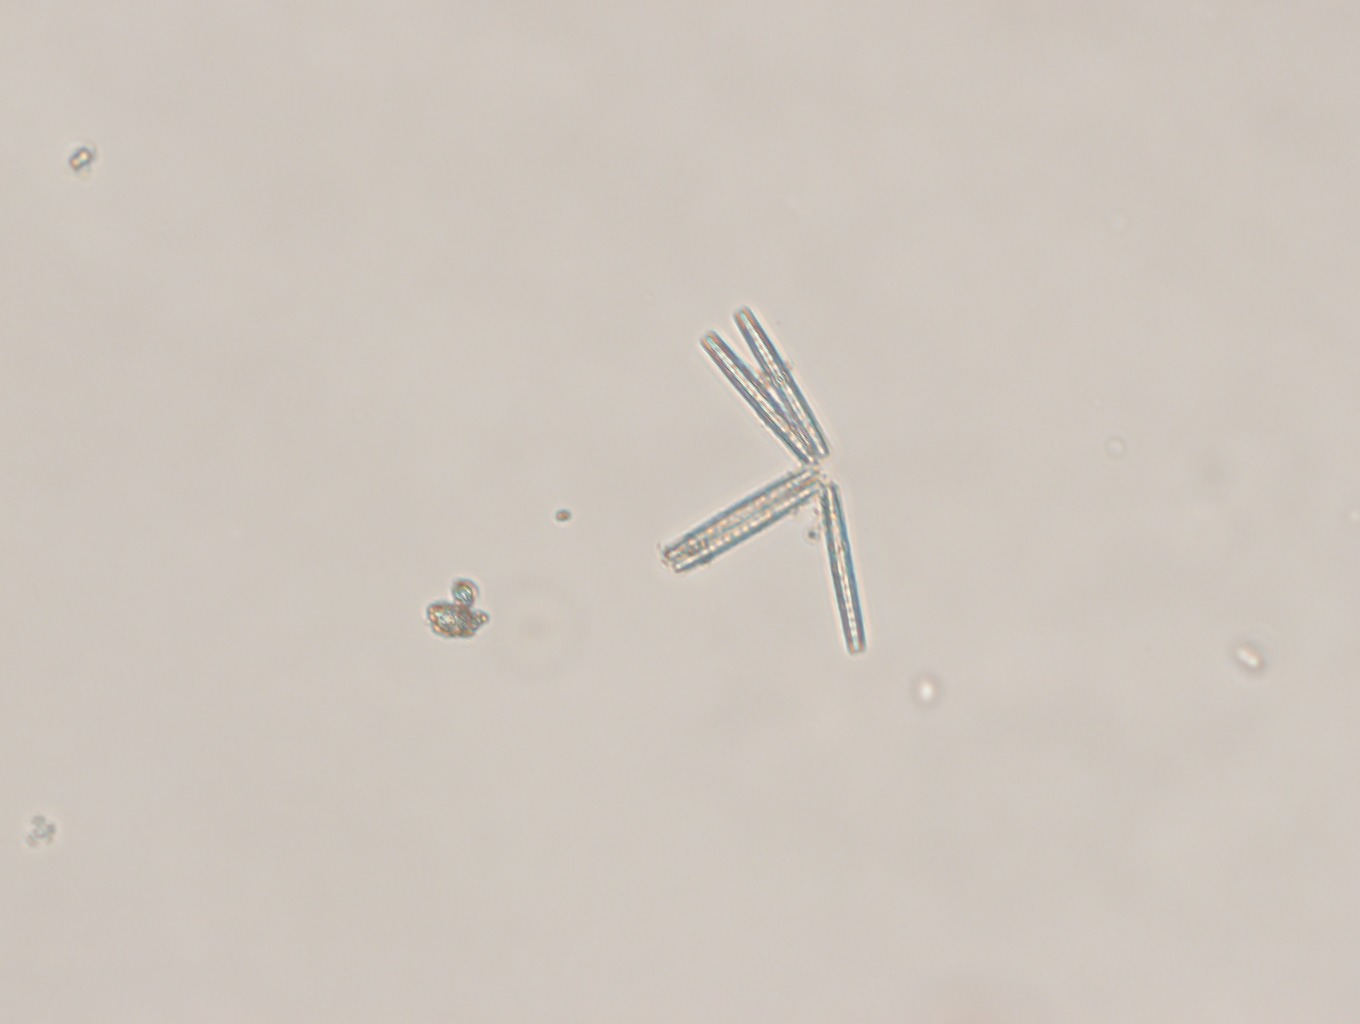thalassionema nitzschioides: (652, 295, 876, 665)
